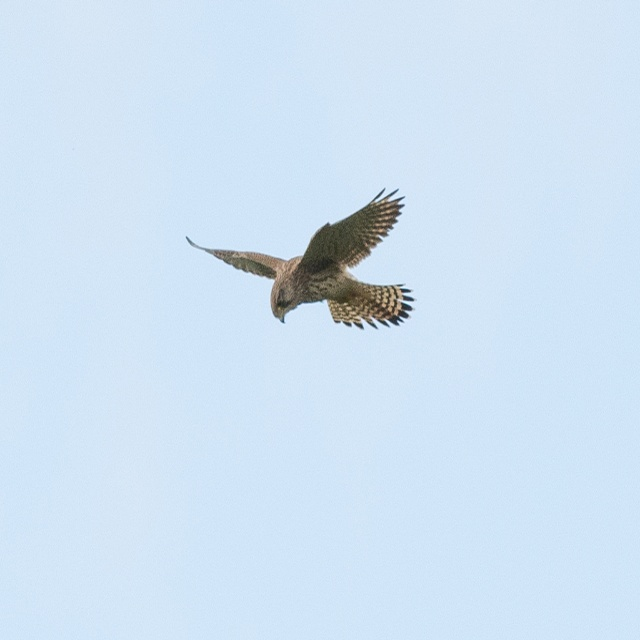Eagle: (183, 179, 419, 336)
